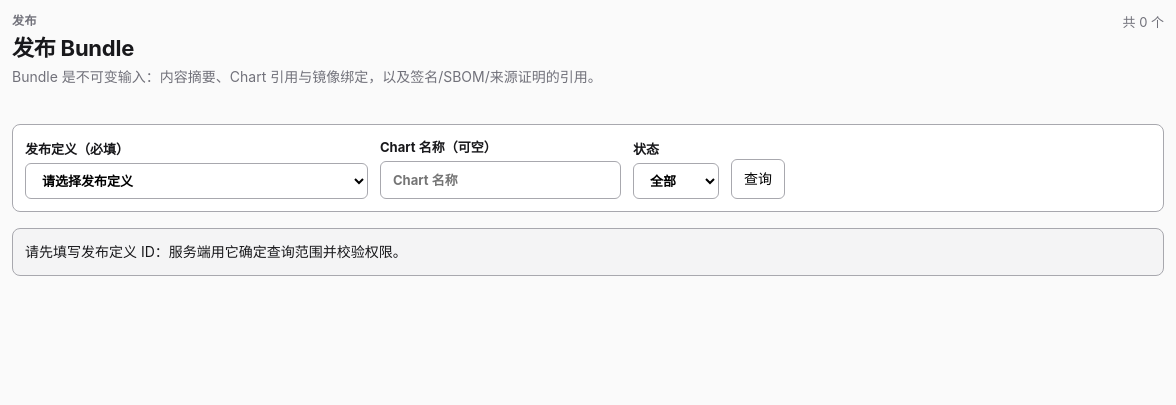
Test: BundlesPage › marks an empty catalogue as empty
Select "definition-one · 命名空间 apps · 集群 cluster-1" in the dropdown named "releaseDefinitionId" at point(196, 181), box 25,163 -> 368,199
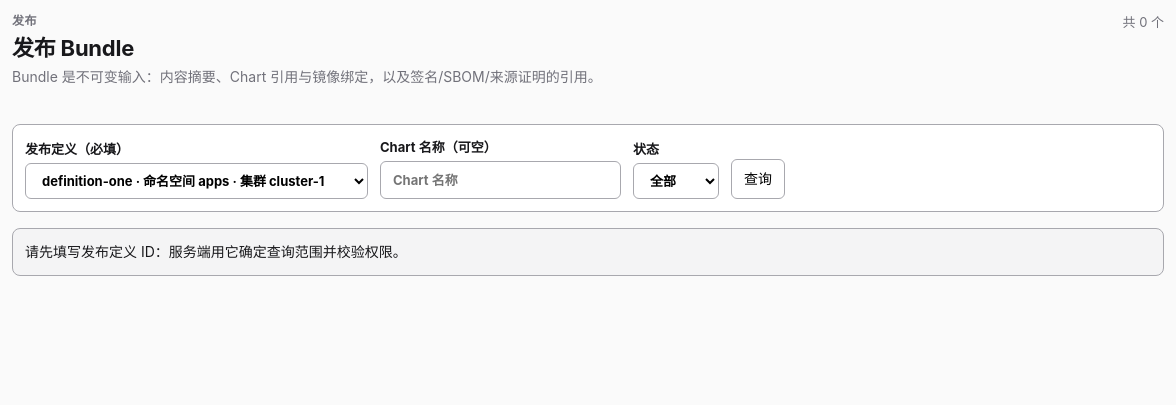
Submit the form with class "bundles__filters", box 12,124 -> 1164,212
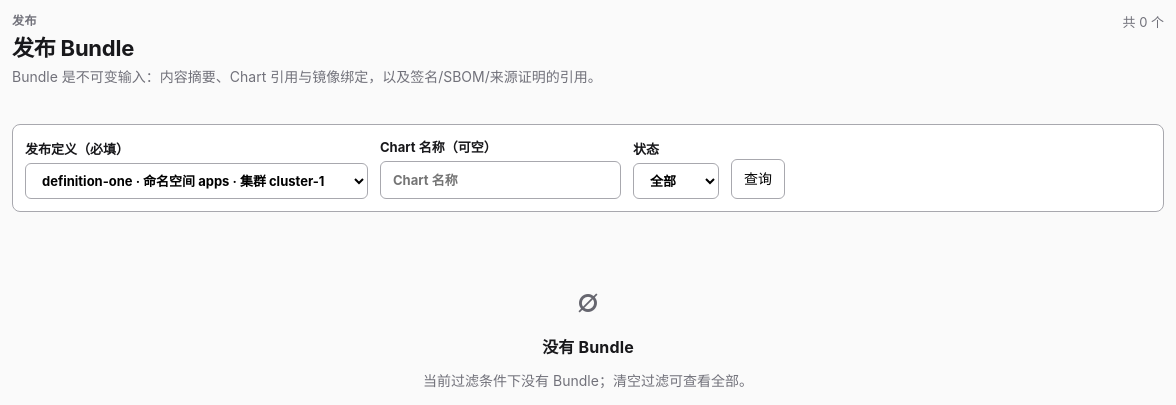
expect the text "没有 Bundle" is shown: met, box 542,335 -> 634,360
